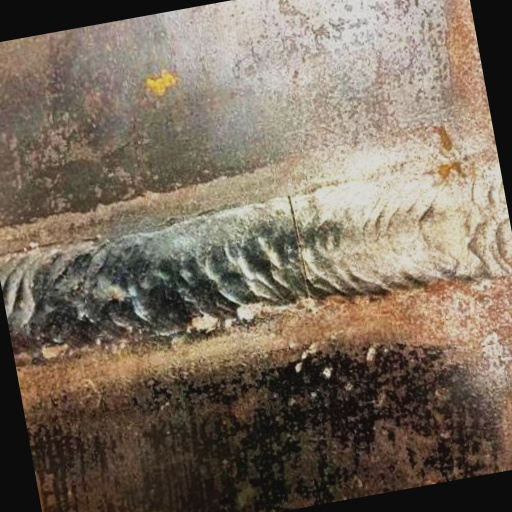crack: (270, 189, 329, 314)
